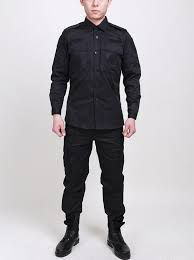gun: (59, 17, 126, 227)
